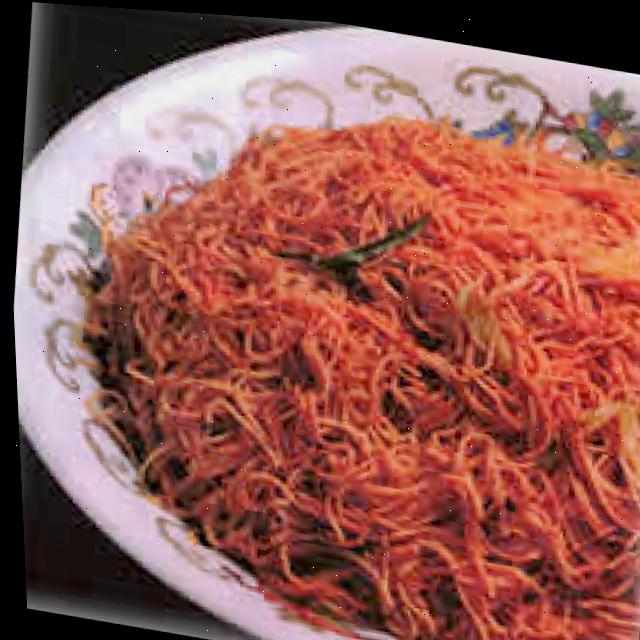面条主食: (149, 72, 640, 640)
